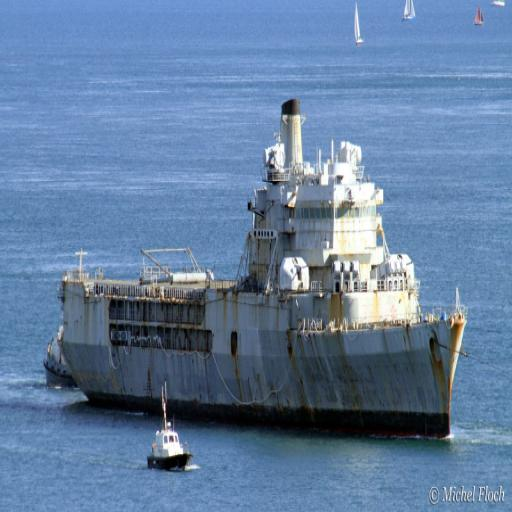Portanaves: (49, 96, 469, 450)
